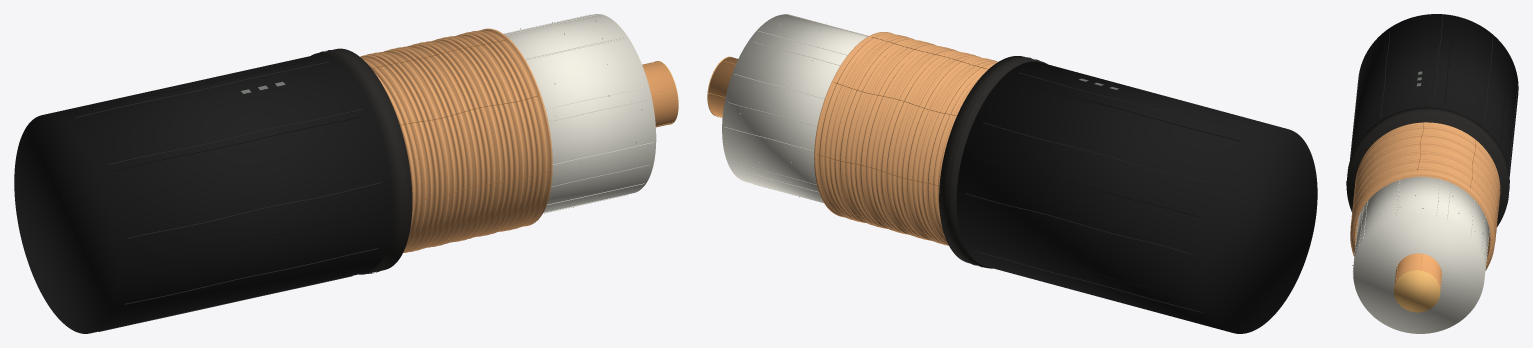
File: rf-lcf12-macro.glb
3 views of the same model, side by side, from view 1: azimuth 30°, elevation 25°; view 2: azimuth 150°, elevation 25°; view 3: azimuth 270°, elevation 25° (orthographic). The views are drawn at different scales.
Parts seen in each view (by area): view 1: macro hardline jacket body, annular corrugated solid shield, macro foam dielectric exposed core, hardline jacket cut wall, polished solid center conductor, rounded jacket cut lip; view 2: macro hardline jacket body, annular corrugated solid shield, macro foam dielectric exposed core, hardline jacket cut wall, polished solid center conductor, rounded jacket cut lip; view 3: macro foam dielectric exposed core, macro hardline jacket body, annular corrugated solid shield, hardline jacket cut wall, polished conductor cut face glow, polished solid center conductor, rounded jacket cut lip.
Part boxes in pixels (x1=…): macro hardline jacket body: x1=14, y1=54, x2=393, y2=333; annular corrugated solid shield: x1=360, y1=28, x2=552, y2=252; macro foam dielectric exposed core: x1=504, y1=14, x2=656, y2=212; hardline jacket cut wall: x1=311, y1=48, x2=412, y2=274; polished solid center conductor: x1=642, y1=61, x2=677, y2=127; rounded jacket cut lip: x1=320, y1=50, x2=404, y2=273; macro hardline jacket body: x1=956, y1=61, x2=1317, y2=333; annular corrugated solid shield: x1=814, y1=32, x2=998, y2=245; macro foam dielectric exposed core: x1=722, y1=14, x2=867, y2=202; hardline jacket cut wall: x1=939, y1=56, x2=1047, y2=268; polished solid center conductor: x1=708, y1=57, x2=737, y2=117; rounded jacket cut lip: x1=946, y1=57, x2=1039, y2=267; macro foam dielectric exposed core: x1=1353, y1=176, x2=1489, y2=333; macro hardline jacket body: x1=1350, y1=14, x2=1518, y2=176; annular corrugated solid shield: x1=1350, y1=122, x2=1500, y2=270; hardline jacket cut wall: x1=1346, y1=107, x2=1509, y2=227; polished conductor cut face glow: x1=1394, y1=270, x2=1440, y2=312; polished solid center conductor: x1=1394, y1=253, x2=1441, y2=289; rounded jacket cut lip: x1=1346, y1=109, x2=1509, y2=202.
Size of the model in its own units: 11.67 by 3.91 by 4.11.
